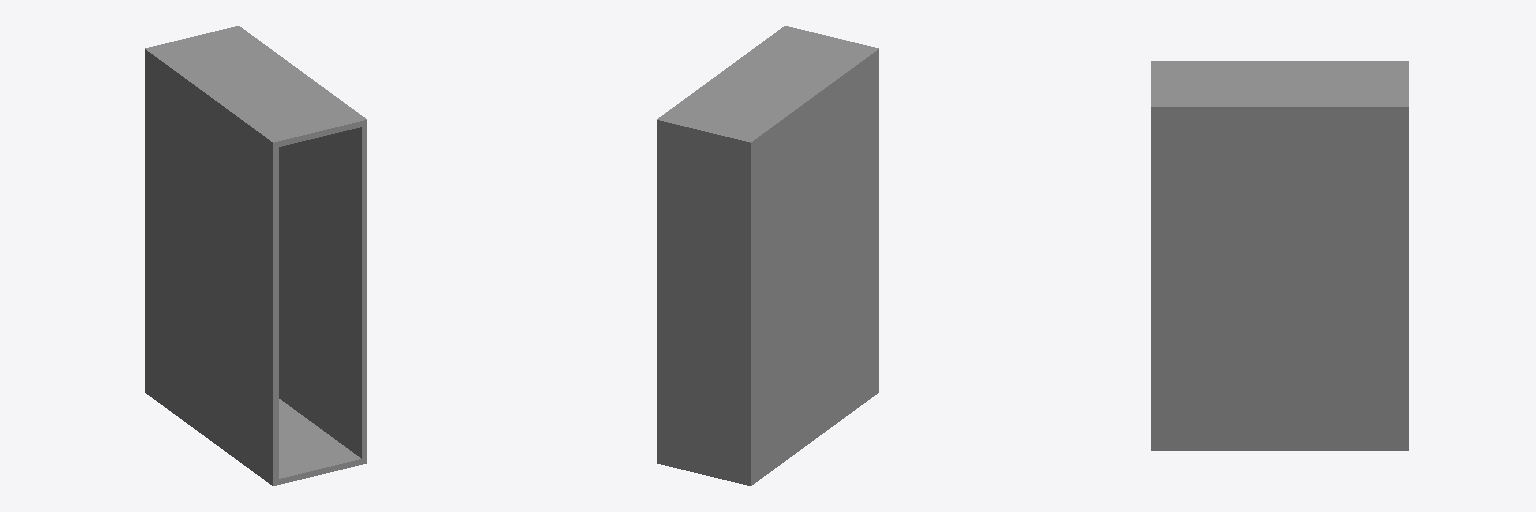
Rendered from tray-space-250.obj.
The picture shows the model from 3 angles: view 1: azimuth 30°, elevation 25°; view 2: azimuth 150°, elevation 25°; view 3: azimuth 270°, elevation 25°; orthographic projection.
Visible parts, largest first — view 1: Cube.002_Cube.004, Cube.001_Cube.003, Cube.004_Cube.005, Cube.003_Cube.001; view 2: Cube.002_Cube.004, Cube.000, Cube.004_Cube.005, Cube.001_Cube.003; view 3: Cube.001_Cube.003, Cube.004_Cube.005, Cube.002_Cube.004.
Boxes of the visible parts, x1=… form: Cube.002_Cube.004: x1=145, y1=47, x2=278, y2=485; Cube.001_Cube.003: x1=234, y1=26, x2=366, y2=464; Cube.004_Cube.005: x1=154, y1=29, x2=361, y2=146; Cube.003_Cube.001: x1=279, y1=399, x2=361, y2=484; Cube.002_Cube.004: x1=745, y1=47, x2=878, y2=485; Cube.000: x1=662, y1=119, x2=747, y2=484; Cube.004_Cube.005: x1=666, y1=27, x2=872, y2=138; Cube.001_Cube.003: x1=657, y1=26, x2=789, y2=464; Cube.001_Cube.003: x1=1151, y1=104, x2=1408, y2=450; Cube.004_Cube.005: x1=1151, y1=64, x2=1401, y2=103; Cube.002_Cube.004: x1=1151, y1=61, x2=1408, y2=63.
Bounding box in the file's own units: 50 × 174 × 118.